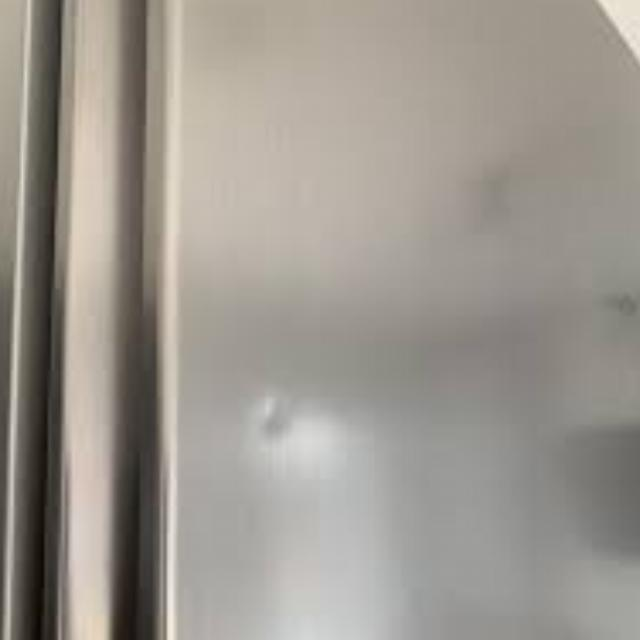dents: (248, 357, 338, 481)
